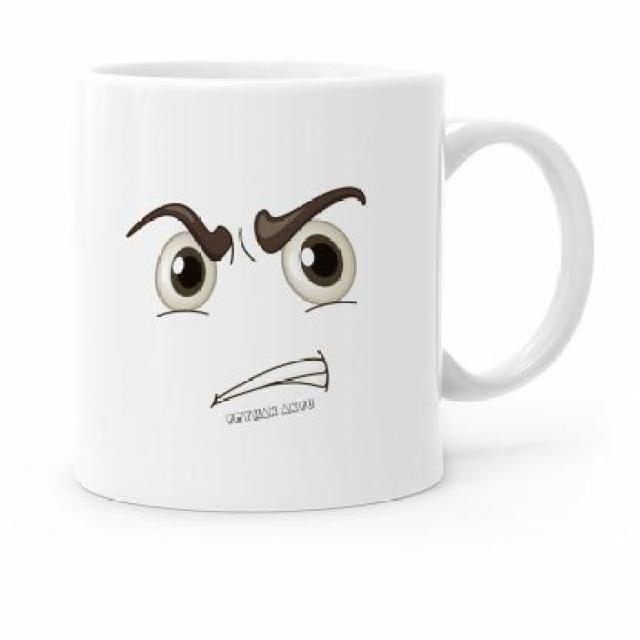taza: (64, 60, 594, 512)
